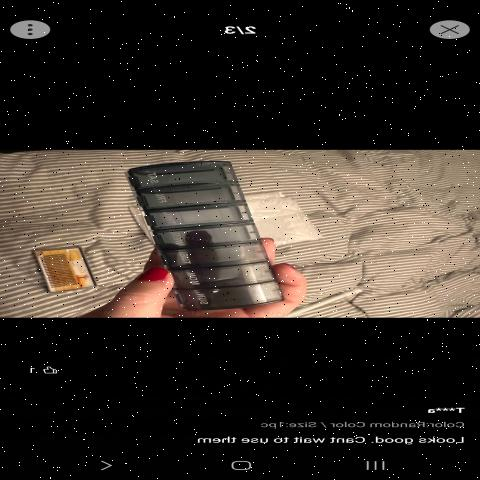Pill-box: (108, 149, 328, 315)
